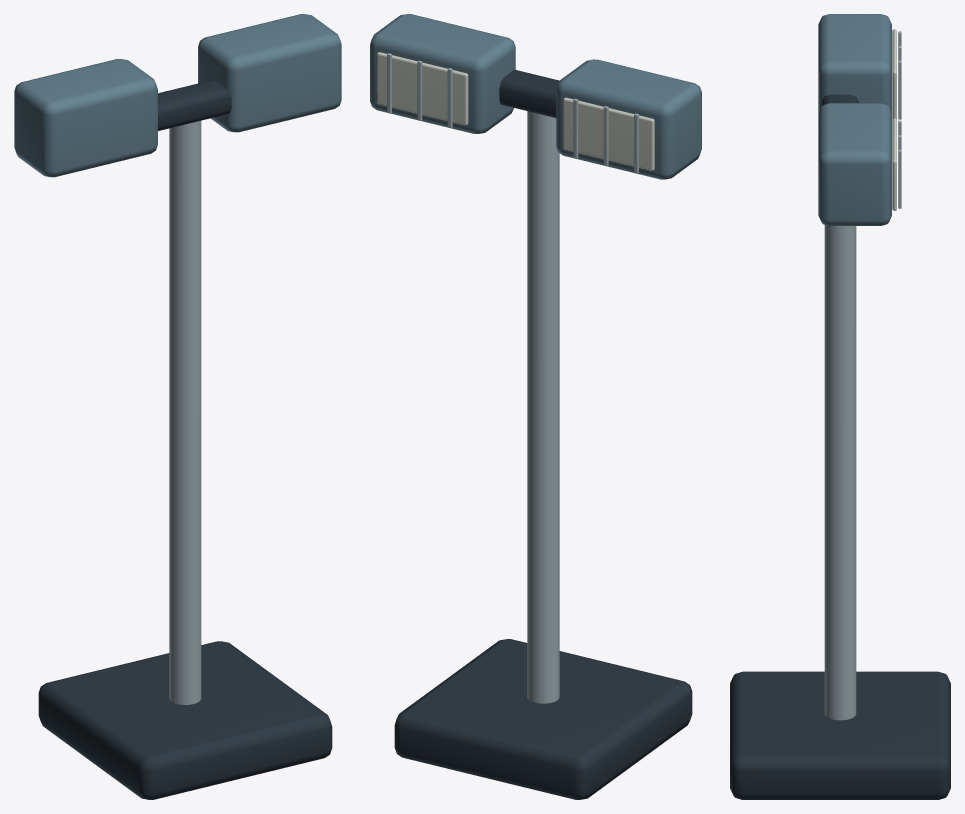
The model's file is 25_floodlight.glb.
3 views of the same model, side by side, from view 1: azimuth 30°, elevation 25°; view 2: azimuth 150°, elevation 25°; view 3: azimuth 270°, elevation 25° (orthographic). The views are drawn at different scales.
Visible parts, largest first — view 1: Lamp base, Floodlight case, Lamp mast; view 2: Lamp base, Lamp mast, Floodlight case, Floodlight lens; view 3: Lamp base, Lamp mast, Floodlight case, Floodlight lens.
Boxes of the visible parts, x1,y1,x2,y2 form: Lamp base: [38, 80, 332, 799]; Floodlight case: [14, 14, 341, 177]; Lamp mast: [169, 19, 277, 704]; Lamp base: [394, 69, 692, 799]; Lamp mast: [387, 53, 638, 703]; Floodlight case: [370, 14, 701, 179]; Floodlight lens: [377, 52, 654, 170]; Lamp base: [730, 94, 950, 799]; Lamp mast: [824, 31, 901, 720]; Floodlight case: [818, 14, 891, 225]; Floodlight lens: [892, 29, 896, 210].
Size of the model in its own units: 1.4 by 3.04 by 0.9.
